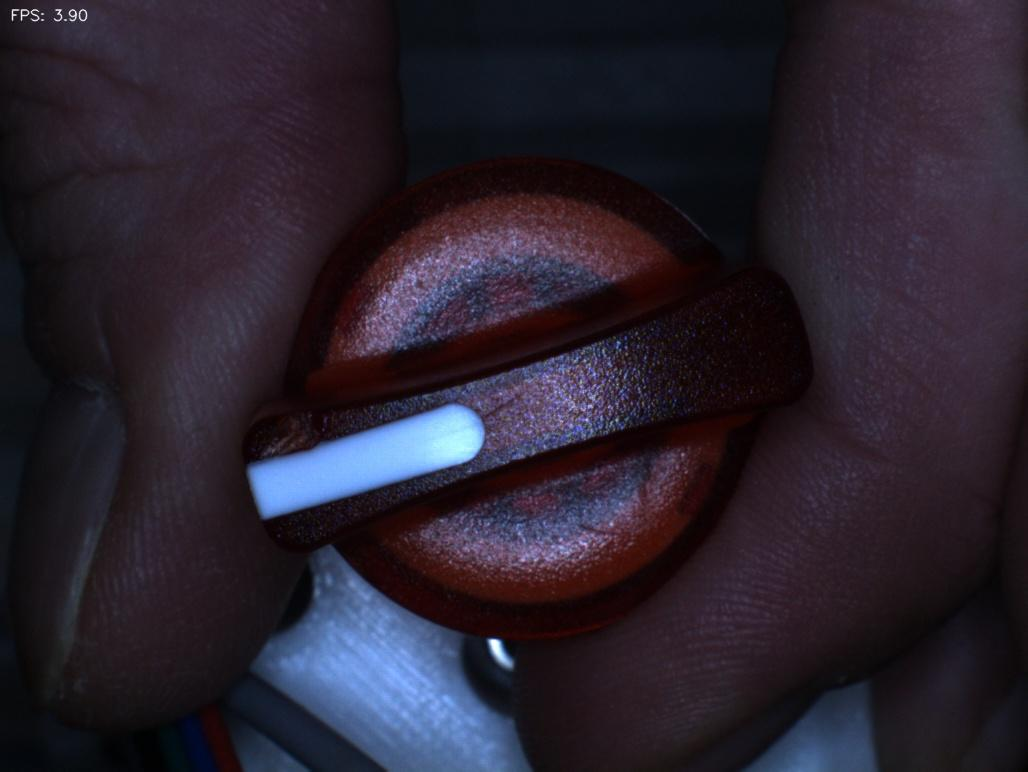Choc: (237, 382, 327, 469)
